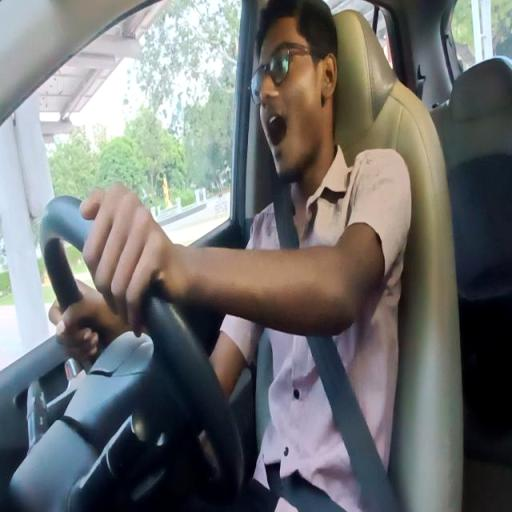yawns: (251, 0, 341, 178)
